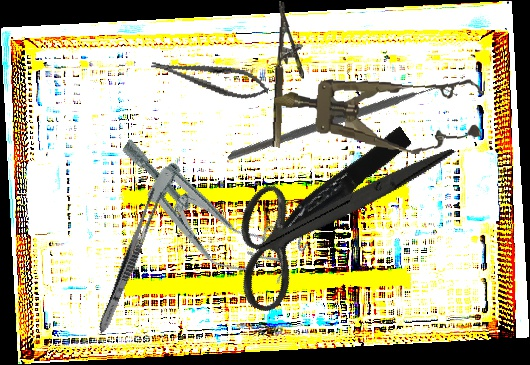Chopper: (227, 6, 458, 246)
Dressing Forceps: (94, 184, 165, 337)
Iris Scissors: (206, 76, 456, 357)
Needle Holder: (148, 48, 272, 106), (271, 1, 308, 149)
Speculum: (97, 125, 312, 302), (270, 59, 486, 160)
Tissue Forceps: (244, 126, 418, 259)
